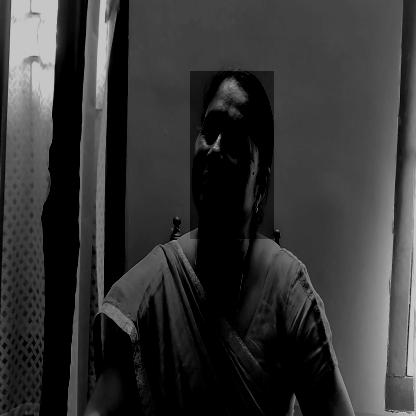Distracted: (190, 71, 274, 239)
